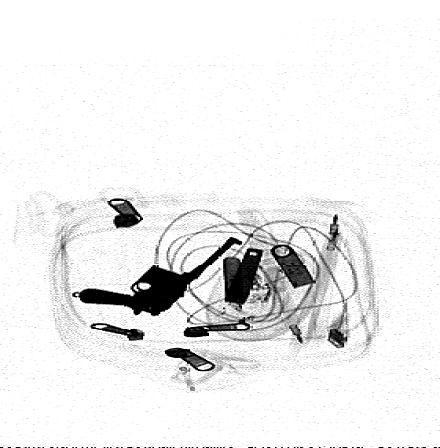Gun: (77, 237, 244, 317)
